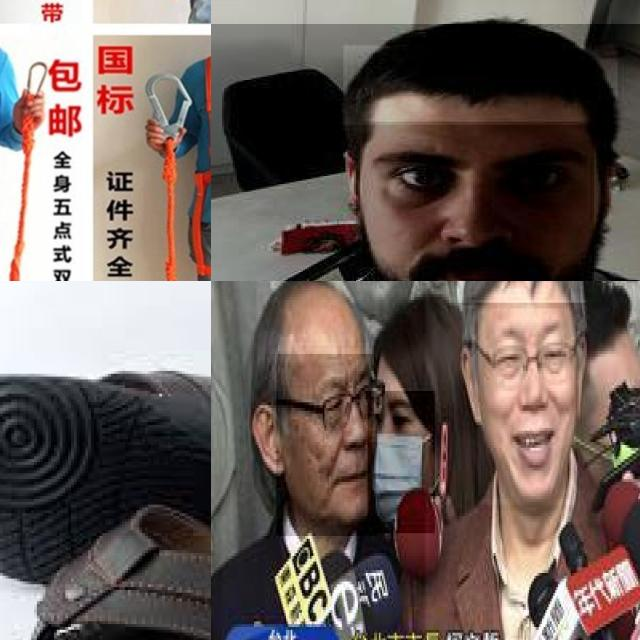No_Ear-Protection: (332, 141, 376, 216), (249, 399, 285, 478), (456, 341, 484, 430)
No_Glasses: (366, 134, 469, 221)
Sandals: (0, 324, 211, 640)
face_mask: (368, 391, 437, 536)
face_nomask: (362, 121, 596, 281), (478, 308, 577, 508), (276, 354, 372, 536)
glasses: (491, 337, 577, 385), (319, 376, 376, 434)
head_nohelmet: (343, 45, 618, 125), (257, 281, 370, 365), (371, 312, 460, 386), (457, 281, 585, 305)
person: (211, 23, 640, 281), (425, 281, 640, 640), (221, 281, 380, 640)
